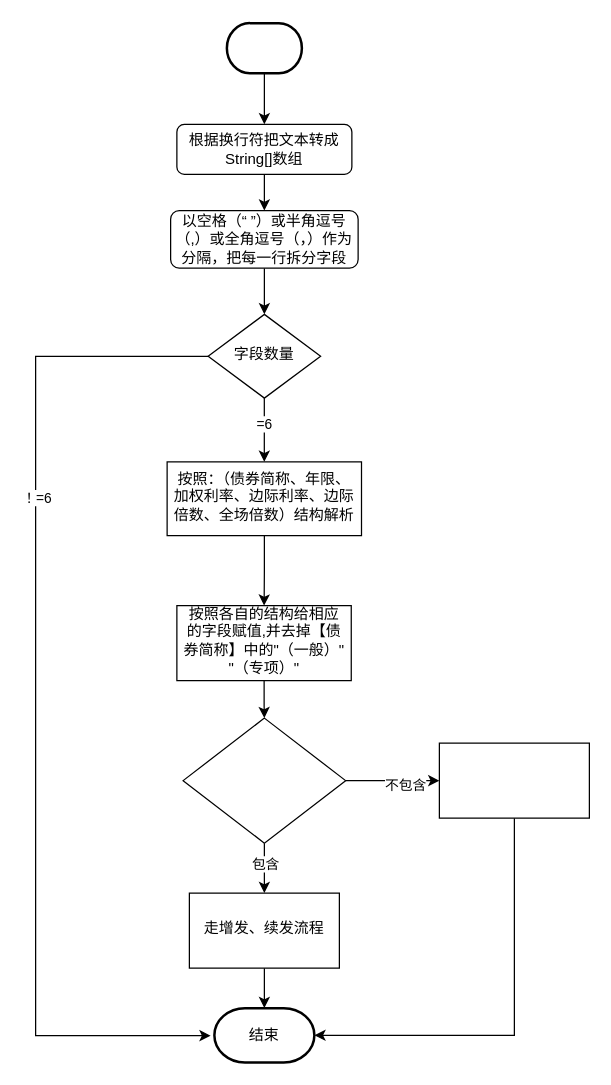
The diagram is 611 pixels wide and 1085 high, and some of its shapes have lost their labels. The centre of each missing label's shape, as x and y in pixels:
"债券简称包含增发或者续发" belongs at (x=264, y=780).
"开始" belongs at (x=263, y=47).
"走新发债流程" belongs at (x=513, y=780).
